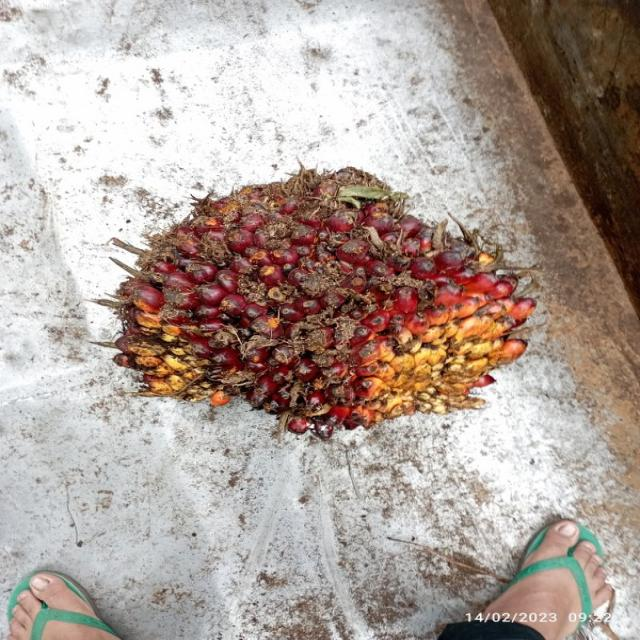fraksi 1: (82, 150, 570, 482)
